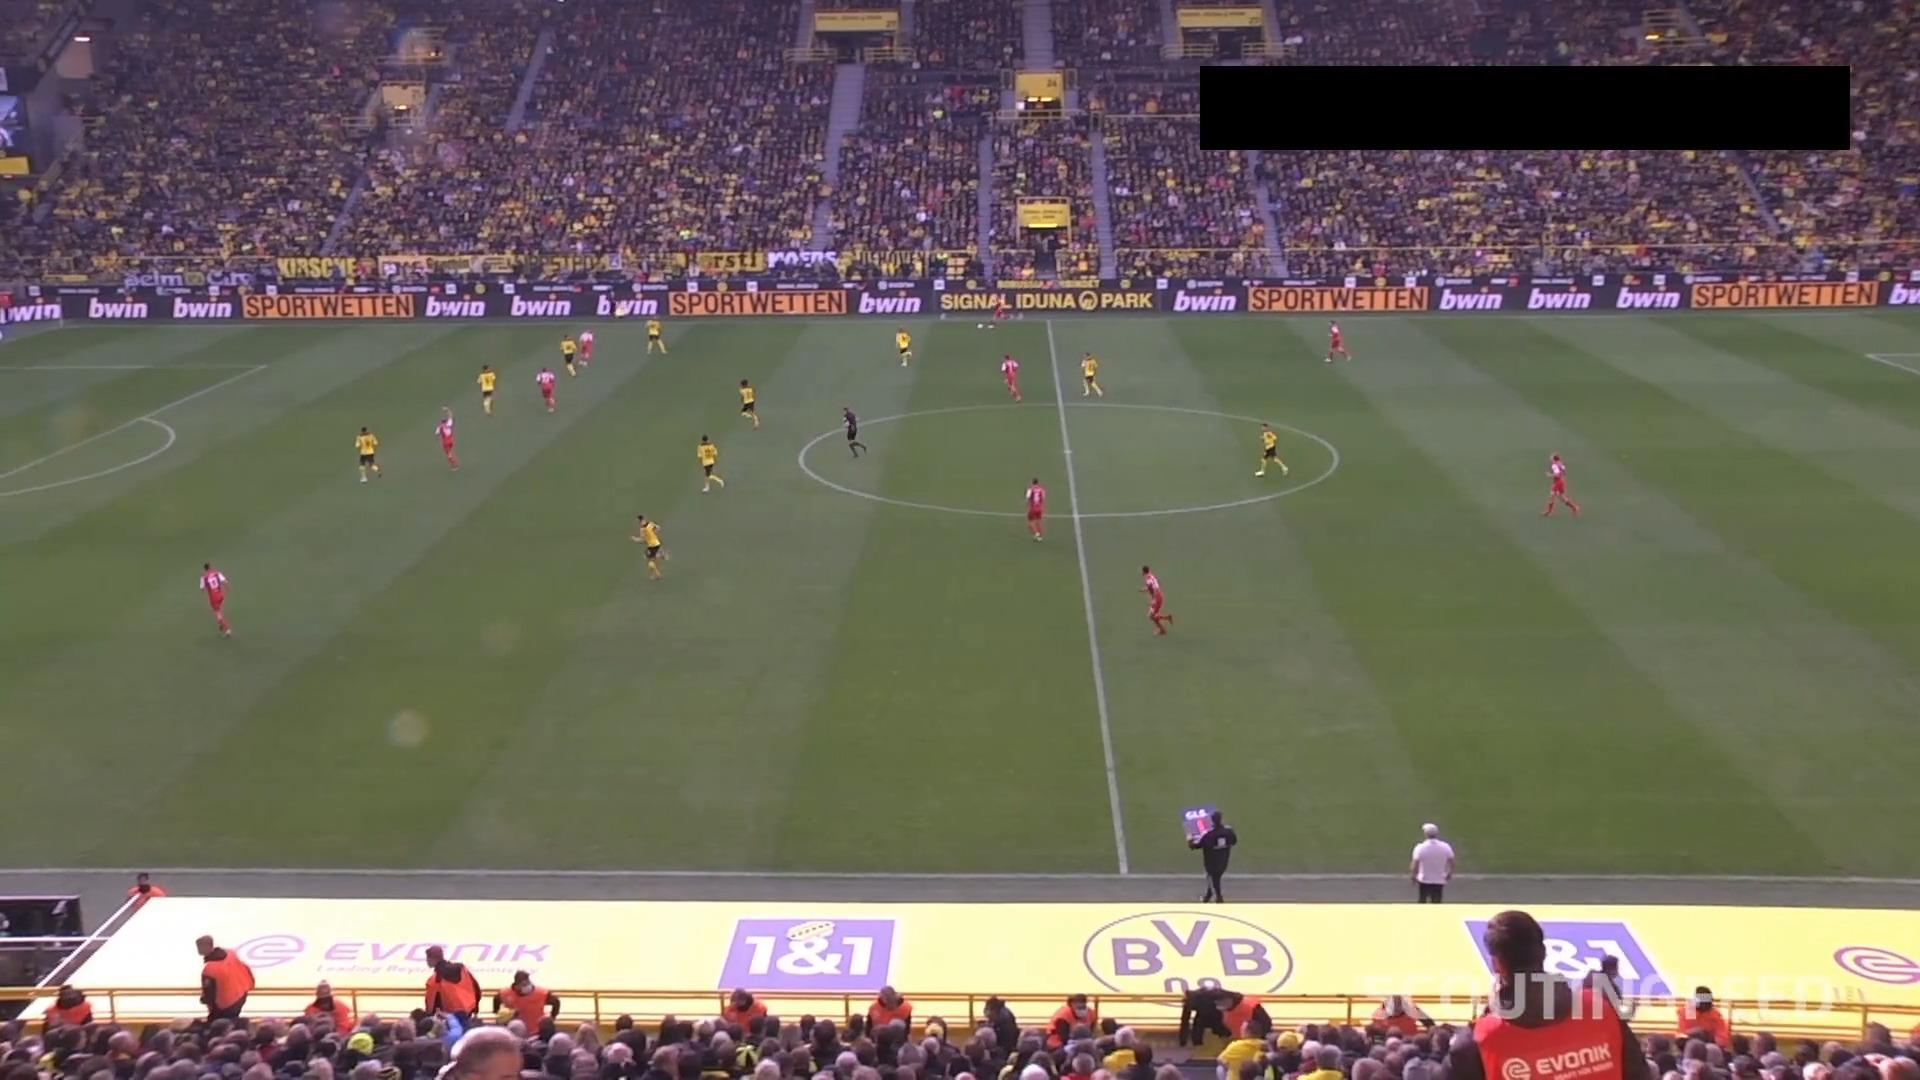ball: (976, 320, 985, 331)
